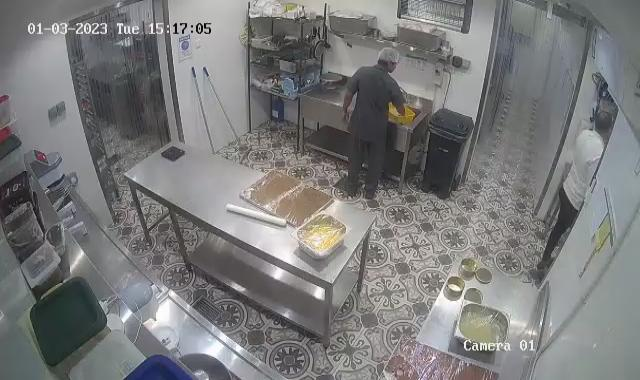hairnet: (374, 46, 402, 69)
no_hairnet: (591, 108, 614, 136)
